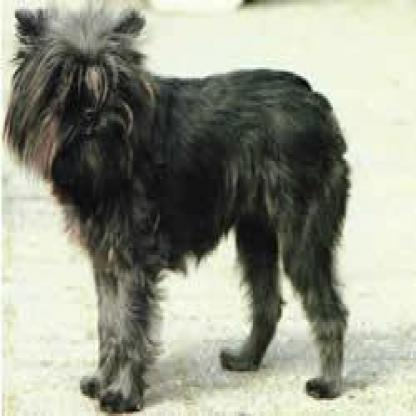affenpinscher: (5, 0, 366, 412)
